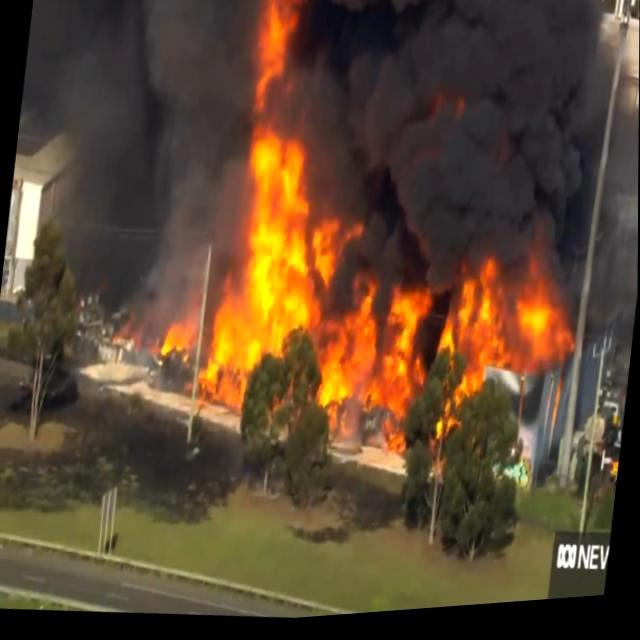fire: (170, 203, 582, 482), (223, 0, 364, 244)
